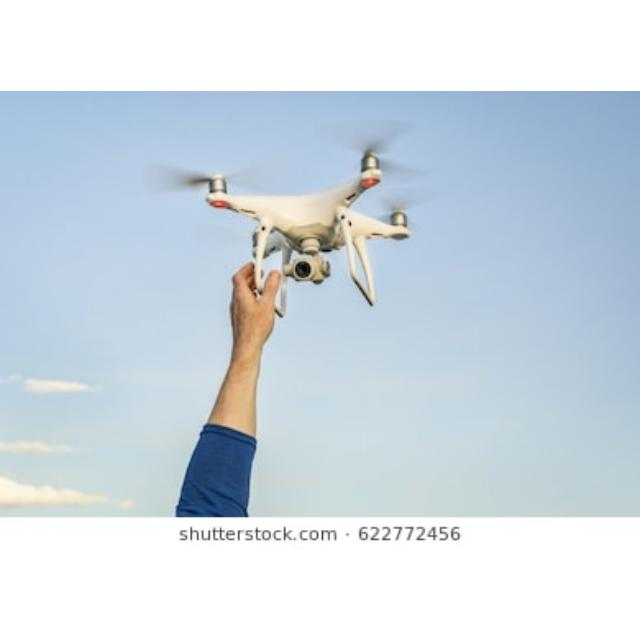Drones: (205, 172, 405, 306)
